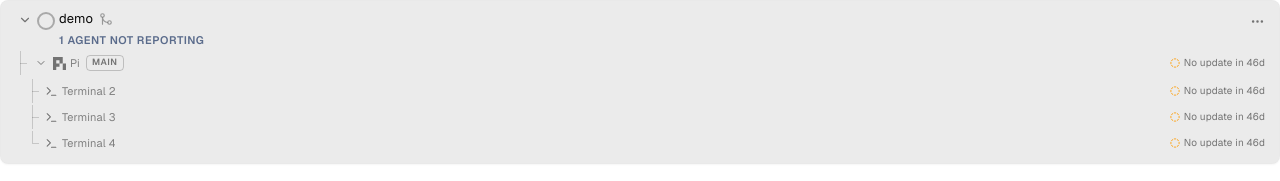
Scenario: WorktreeCard subagent nesting box (issue #359) › collapsing hides the box and flips the disclosure to Show with a count
The width and height of the screenshot is (1280, 181).
Click the button named "Hide 3 child agents" at (41, 63), box [33,55,49,71]
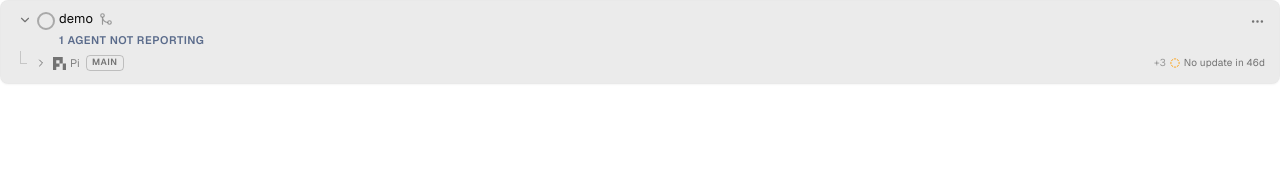
Expected: the element with class "worktree-agent-lineage-children" is gone
Expected: the button named "Show 3 child agents" is collapsed, [33,55,49,71]
Expected: the text "+3" is shown, [1154,58,1166,68]
